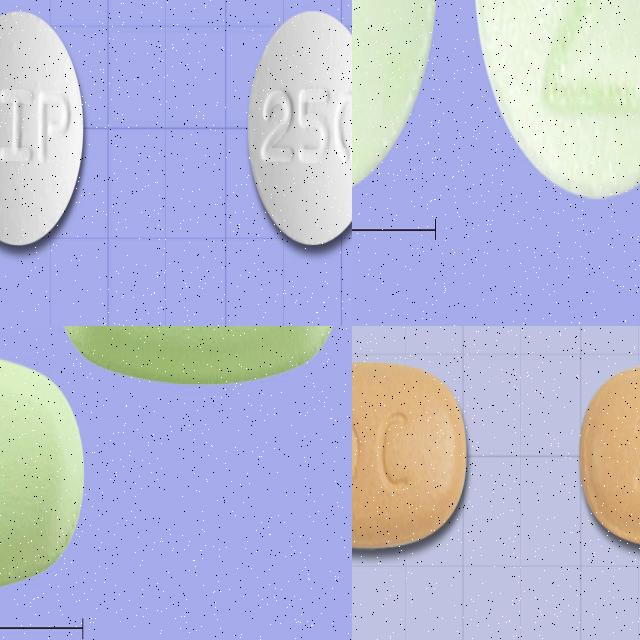Azabio - 25mg: (471, 0, 640, 209)
Ciprocin: (244, 2, 352, 256), (0, 6, 90, 251)
Cllaricin: (0, 347, 89, 595), (51, 326, 344, 382)
Dongkoo Levofloxacin Hydrate Tab-250mg: (352, 361, 468, 551), (579, 360, 640, 550)
